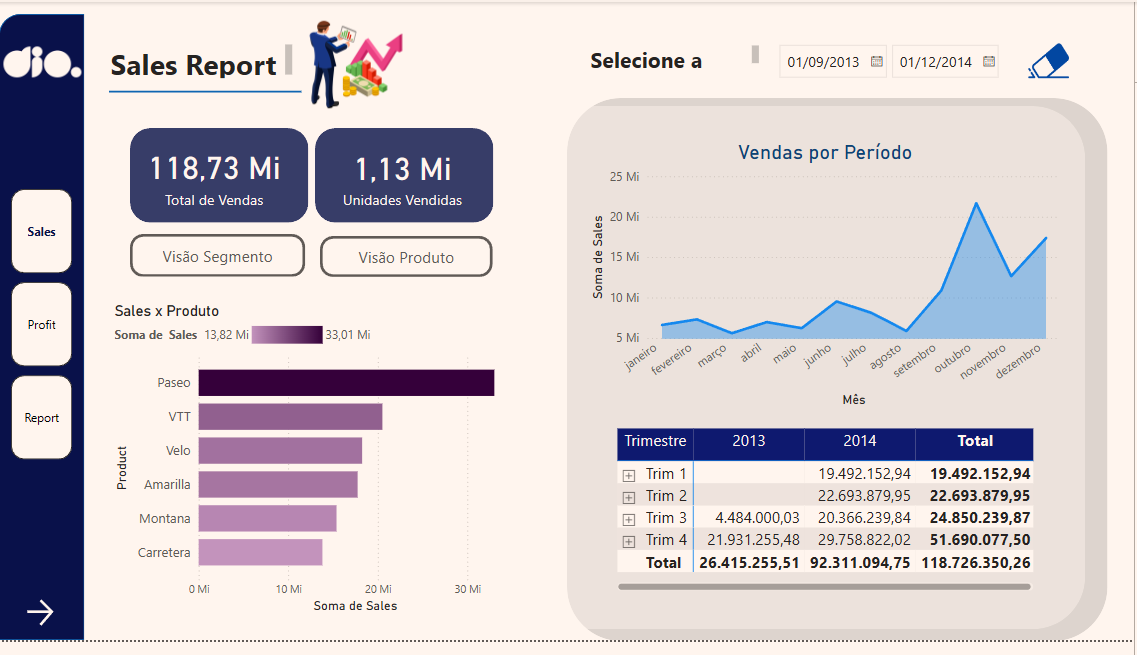

This screenshot's page, from the dashboard's own definition file:
{"tool":"powerbi","page":{"name":"Sales","canvas":[1280,720],"ordinal":0},"visuals":[{"type":"group","id":"g1","title":"Layout","box":[0,-0.5,511.4,720],"z":0},{"type":"shape","box":[0,13.4,96.4,706.2],"z":0,"group":"g1"},{"type":"slicer","fields":{"Values":["financials.Date"]},"box":[867.2,38.7,272.2,55],"z":0,"group":"g3"},{"type":"shape","box":[123.8,84.5,217.2,33],"z":0,"group":"g4"},{"type":"shape","box":[147.2,142.2,201.4,106.8],"z":0,"group":"g2"},{"type":"areaChart","title":"Vendas por Período","fields":{"Category":["financials.Date.Variation.Hierarquia de datas.Ano","financials.Date.Variation.Hierarquia de datas.Mês"],"Y":["Sum(financials. Sales)"]},"box":[661.6,156.1,539.7,306.2],"z":0,"group":"g6"},{"type":"image","title":"logo_dio","box":[0,35.7,98.2,63.2],"z":1000,"group":"g1"},{"type":"textbox","box":[120.4,43.1,215.2,48.5],"z":1000,"group":"g4"},{"type":"textbox","box":[661.6,44.7,199.6,45.6],"z":1000,"group":"g3"},{"type":"shape","box":[355.9,142.2,201.4,106.8],"z":1000,"group":"g2"},{"type":"clusteredBarChart","title":"Sales x Produto","fields":{"Y":["Sum(financials. Sales)"],"Category":["financials.Product"]},"box":[125.5,337.9,473.5,355.6],"z":1000,"group":"g5"},{"type":"actionButton","title":"Botão - Next","box":[25.9,669,48.8,39.6],"z":1000},{"type":"image","box":[322.6,-0.5,188.8,141.2],"z":2000,"group":"g1"},{"type":"actionButton","box":[1153.4,43.3,59.9,51.3],"z":2000,"group":"g3"},{"type":"group","id":"g2","title":"Cartões","box":[147.2,141.2,410.3,107],"z":2000},{"type":"card","fields":{"Values":["Sum(financials. Sales)"]},"box":[161.1,141.2,162.6,106.9],"z":2000,"group":"g2"},{"type":"actionButton","title":"B-Segmento","box":[147.8,261.6,197.5,48.4],"z":2000,"group":"g5"},{"type":"group","id":"g3","title":"Filtro por data","box":[661.6,38.7,551.5,55],"z":3000},{"type":"image","title":"clean","box":[1153.4,39,59.9,55.6],"z":3000,"group":"g3"},{"type":"card","fields":{"Values":["Sum(financials.Units Sold)"]},"box":[375.8,145.4,156.5,98.6],"z":3000,"group":"g2"},{"type":"actionButton","title":"B-Produto","box":[362.2,264.3,194.6,46.3],"z":3000,"group":"g5"},{"type":"shape","box":[640.7,108.5,609.5,612.5],"z":4000},{"type":"group","id":"g4","title":"Title report","box":[120.4,43.1,221.5,74.3],"z":5000},{"type":"group","id":"g5","title":"Grupo 1","box":[120.4,261.6,478.7,446],"z":6000},{"type":"shape","box":[584.3,117.4,640.7,590.2],"z":7000},{"type":"group","id":"g6","title":"Perspectiva temporal das vendas","box":[661.6,156.1,539.7,306.2],"z":8000},{"type":"pivotTable","fields":{"Values":["Sum(financials. Sales)"],"Columns":["financials.Date.Variation.Hierarquia de datas.Ano"],"Rows":["financials.Date.Variation.Hierarquia de datas.Trimestre","financials.Date.Variation.Hierarquia de datas.Mês"]},"box":[692.8,475.7,478.7,193.3],"z":9000},{"type":"pageNavigator","box":[13.4,211.1,69.9,306.2],"z":10000}]}

Visuals, with their boxes on the page's 1280x720 design canvas (x1, y1, x2, y2). These are canvas units, not pixel positions in the 1137x655 screenshot, which may show the page scaled, cropped or inside an application window:
"Layout" group: <box>0,0,511,720</box>
shape: <box>0,13,96,720</box>
slicer - financials.Date: <box>867,39,1139,94</box>
shape: <box>124,84,341,118</box>
shape: <box>147,142,349,249</box>
"Vendas por Período" areaChart: <box>662,156,1201,462</box>
"logo_dio" image: <box>0,36,98,99</box>
textbox: <box>120,43,336,92</box>
textbox: <box>662,45,861,90</box>
shape: <box>356,142,557,249</box>
"Sales x Produto" clusteredBarChart: <box>126,338,599,694</box>
"Botão - Next" actionButton: <box>26,669,75,709</box>
image: <box>323,0,511,141</box>
actionButton: <box>1153,43,1213,95</box>
"Cartões" group: <box>147,141,558,248</box>
card - Sum(financials. Sales): <box>161,141,324,248</box>
"B-Segmento" actionButton: <box>148,262,345,310</box>
"Filtro por data" group: <box>662,39,1213,94</box>
"clean" image: <box>1153,39,1213,95</box>
card - Sum(financials.Units Sold): <box>376,145,532,244</box>
"B-Produto" actionButton: <box>362,264,557,311</box>
shape: <box>641,108,1250,721</box>
"Title report" group: <box>120,43,342,117</box>
"Grupo 1" group: <box>120,262,599,708</box>
shape: <box>584,117,1225,708</box>
"Perspectiva temporal das vendas" group: <box>662,156,1201,462</box>
pivotTable - Sum(financials. Sales) x financials.Date.Variation.Hierarquia de datas.Ano: <box>693,476,1172,669</box>
pageNavigator: <box>13,211,83,517</box>
